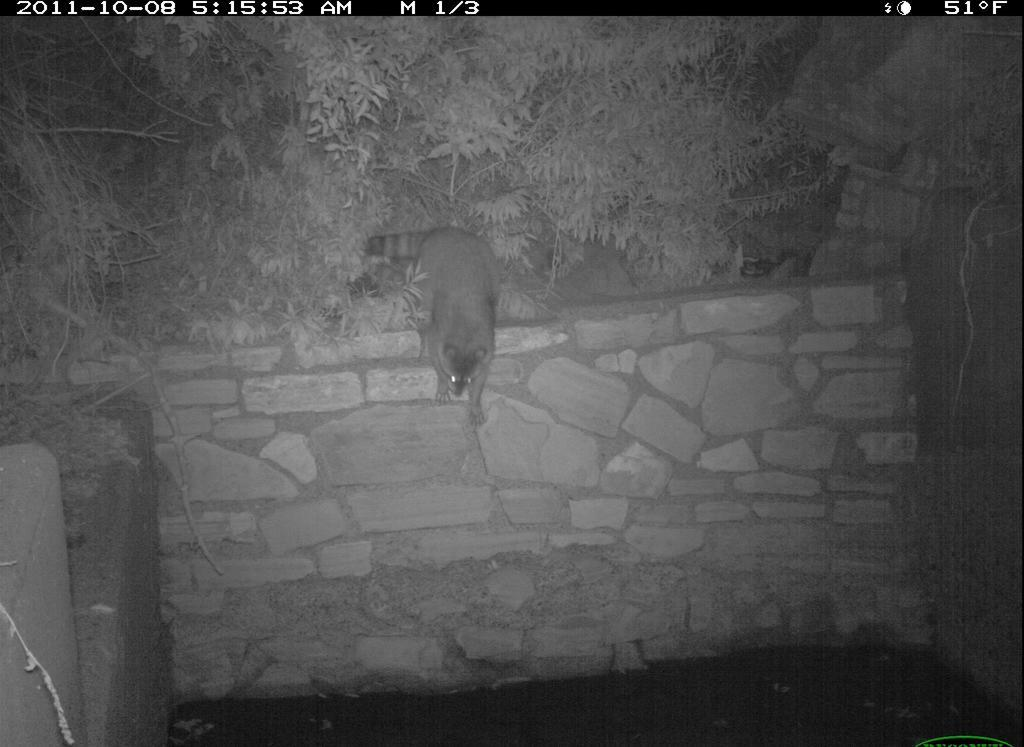raccoon: (358, 205, 510, 423)
